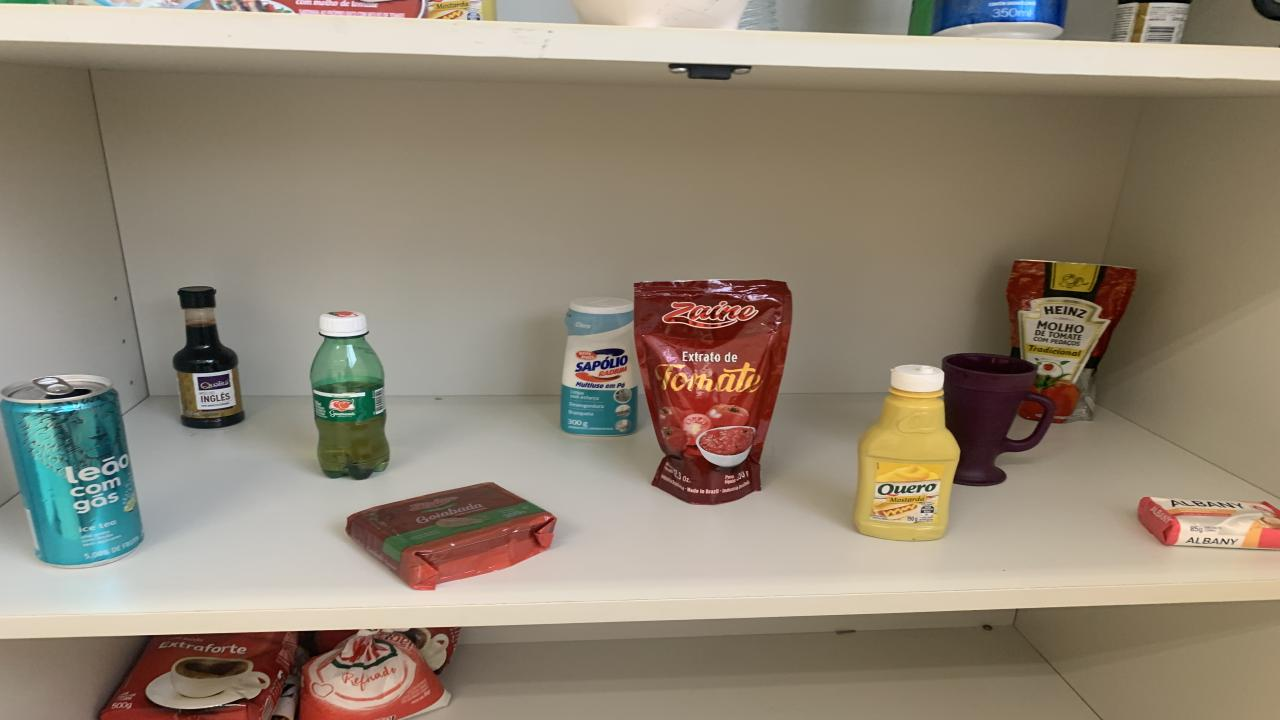Cleaner-Cleanup_Items: (560, 296, 638, 435)
English_Sauce-Pantry_Items: (172, 287, 245, 428), (1110, 0, 1190, 43)
Flakes-Snacks: (55, 0, 205, 9)
Guarana-Drinks: (310, 311, 390, 480)
Guava-Snacks: (345, 482, 555, 591)
Mustard-Pantry_Items: (855, 364, 960, 540), (422, 0, 495, 21)
Pig_Safe-Miscellaneous: (572, 0, 748, 30)
Pringles-Snacks: (908, 0, 932, 36)
Soap-Cleanup_Items: (1138, 497, 1280, 549)
Tea-Drinks: (0, 375, 142, 568)
Tomato_Sauce-Pantry_Items: (635, 279, 792, 504), (1005, 261, 1138, 422)
Tonic-Drinks: (930, 0, 1068, 39)
Tuna_Can-Pantry_Items: (210, 0, 428, 19)
Water_Bottle-Drinks: (738, 0, 778, 30)
